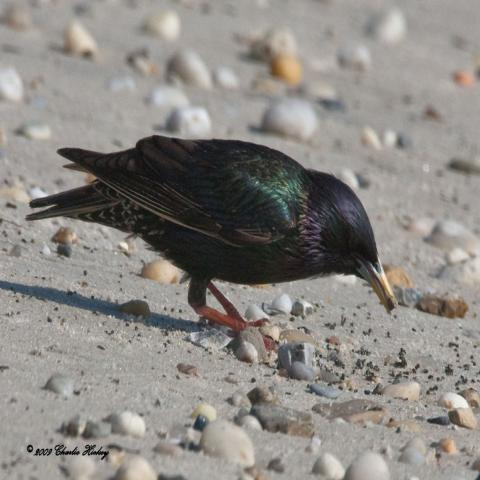bird: (24, 131, 400, 337)
